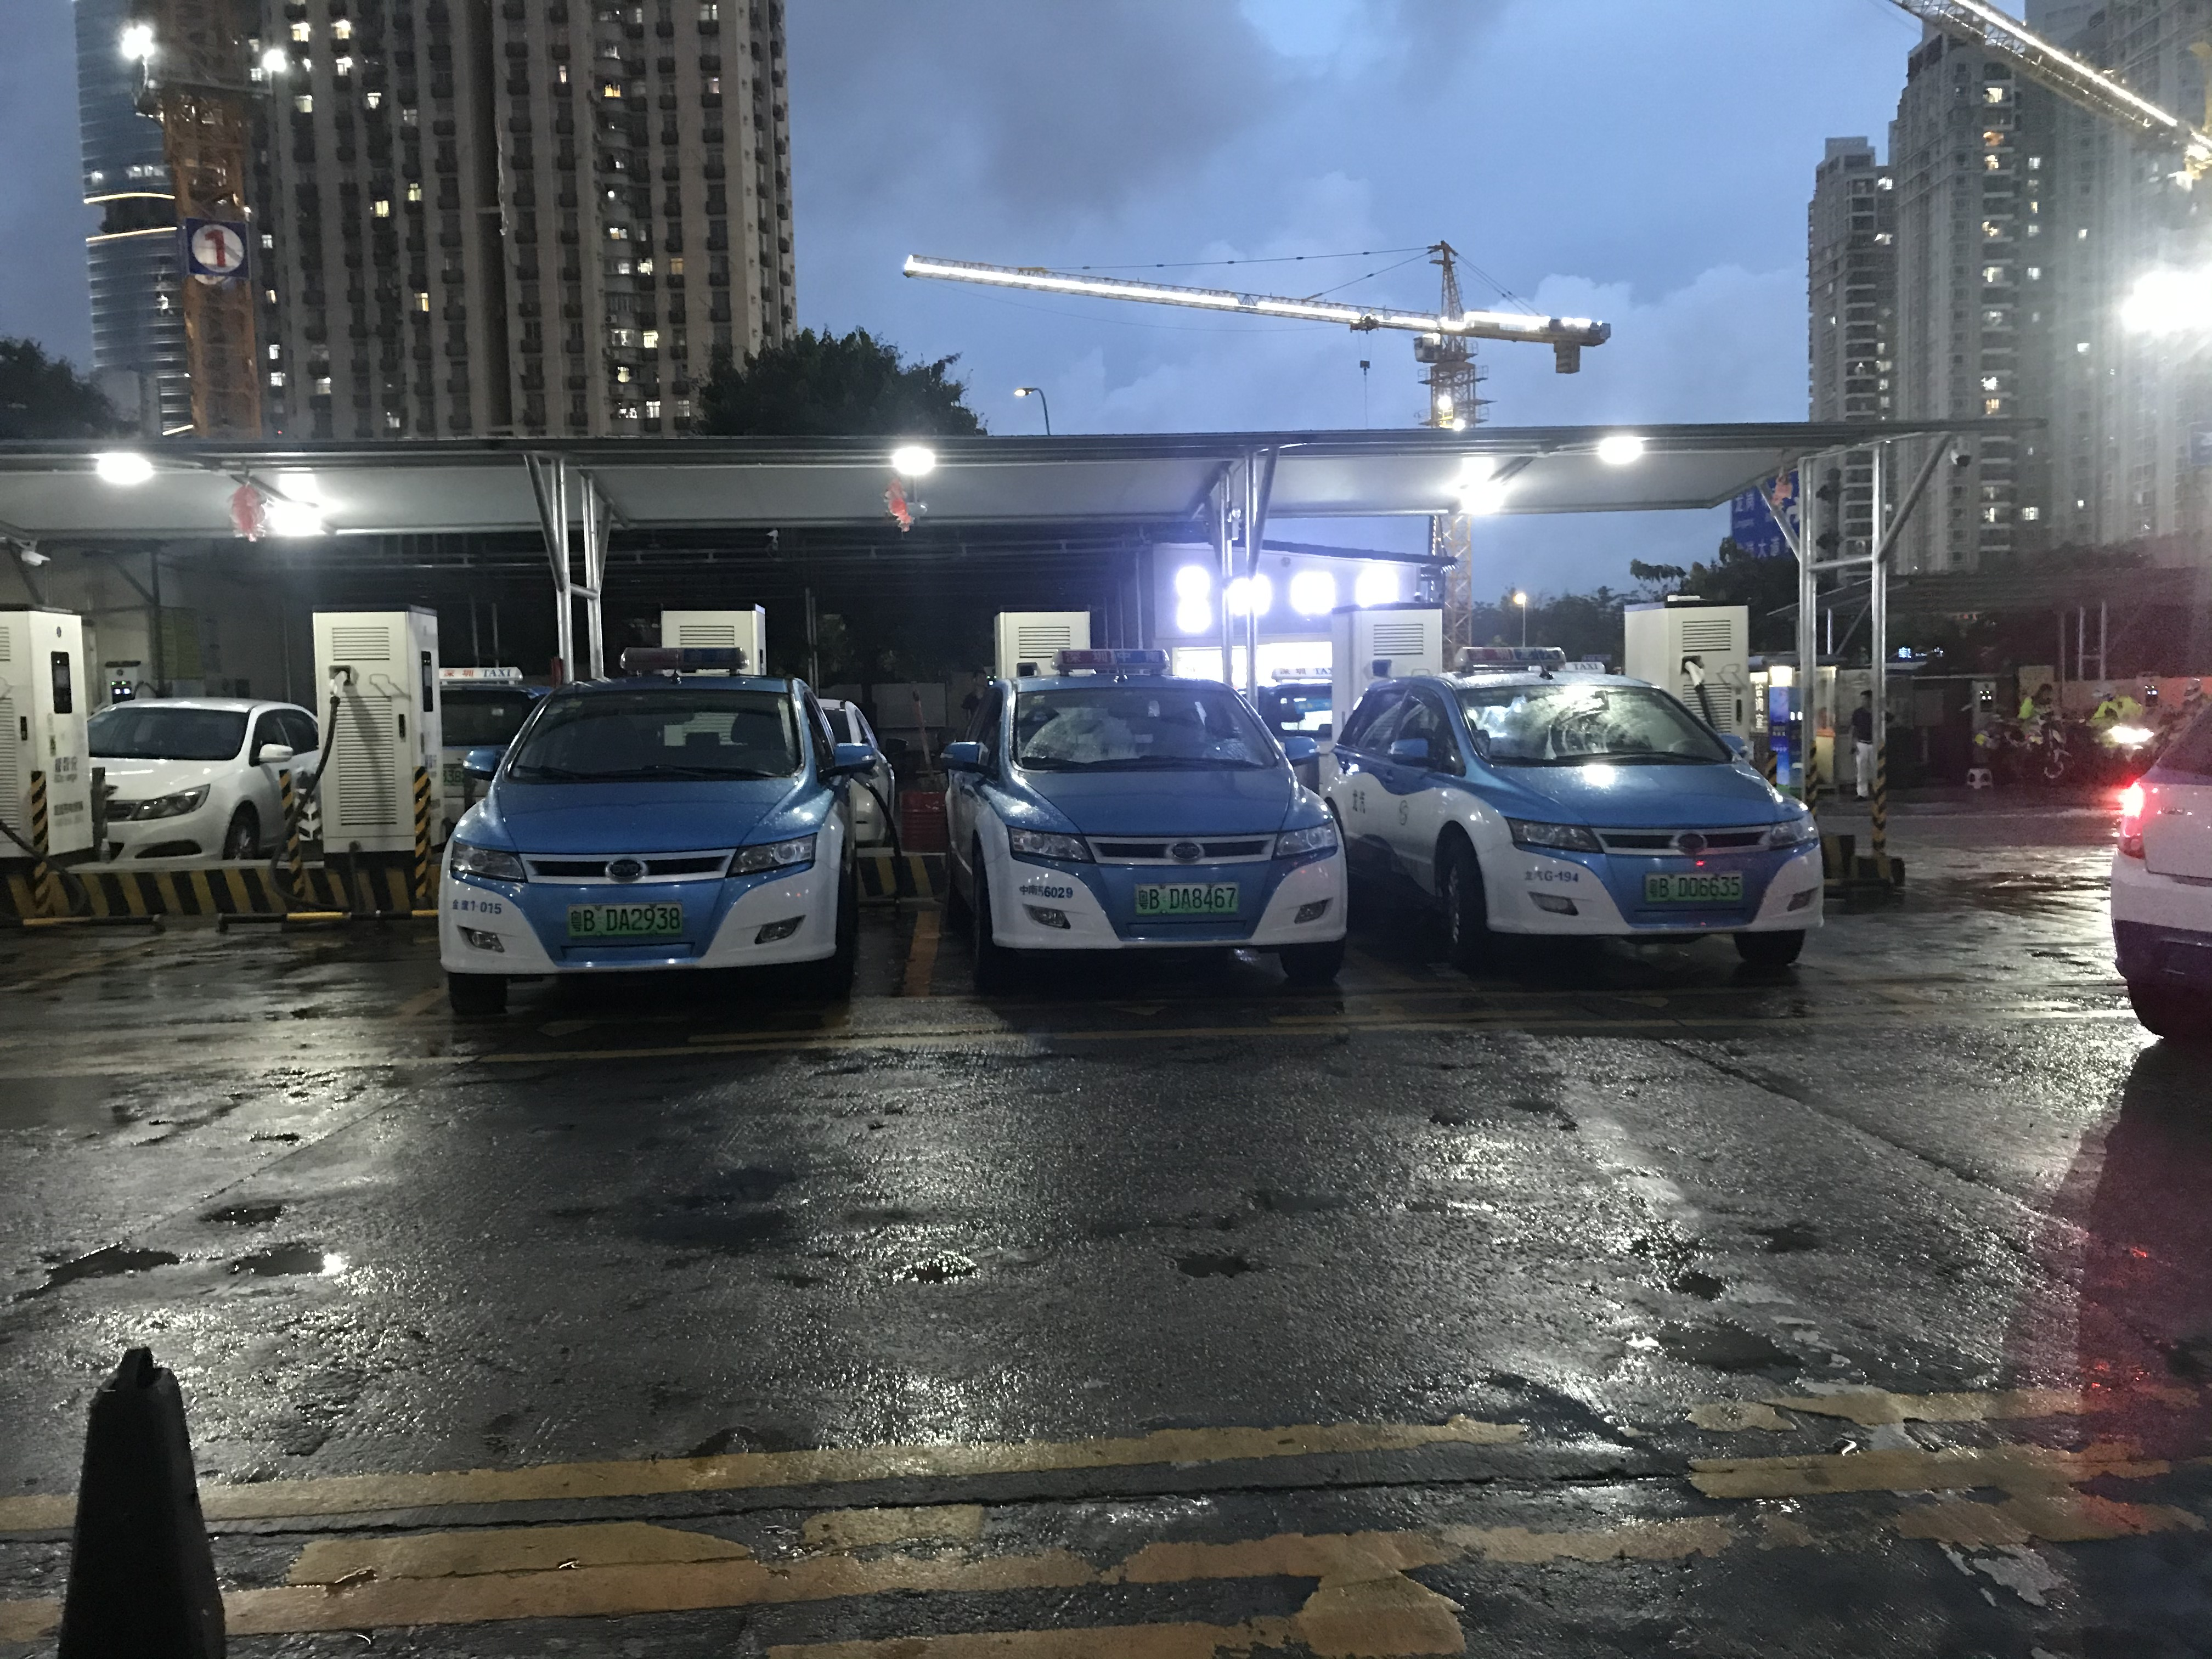greenPlate: (564, 901, 685, 936), (1644, 868, 1749, 906), (1134, 882, 1242, 915)
